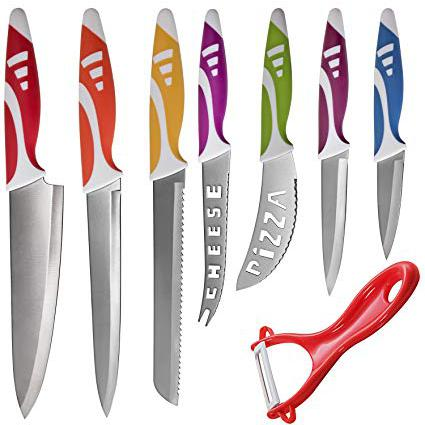knife: (6, 6, 64, 417), (79, 5, 123, 416), (317, 6, 349, 297), (372, 8, 406, 262)
